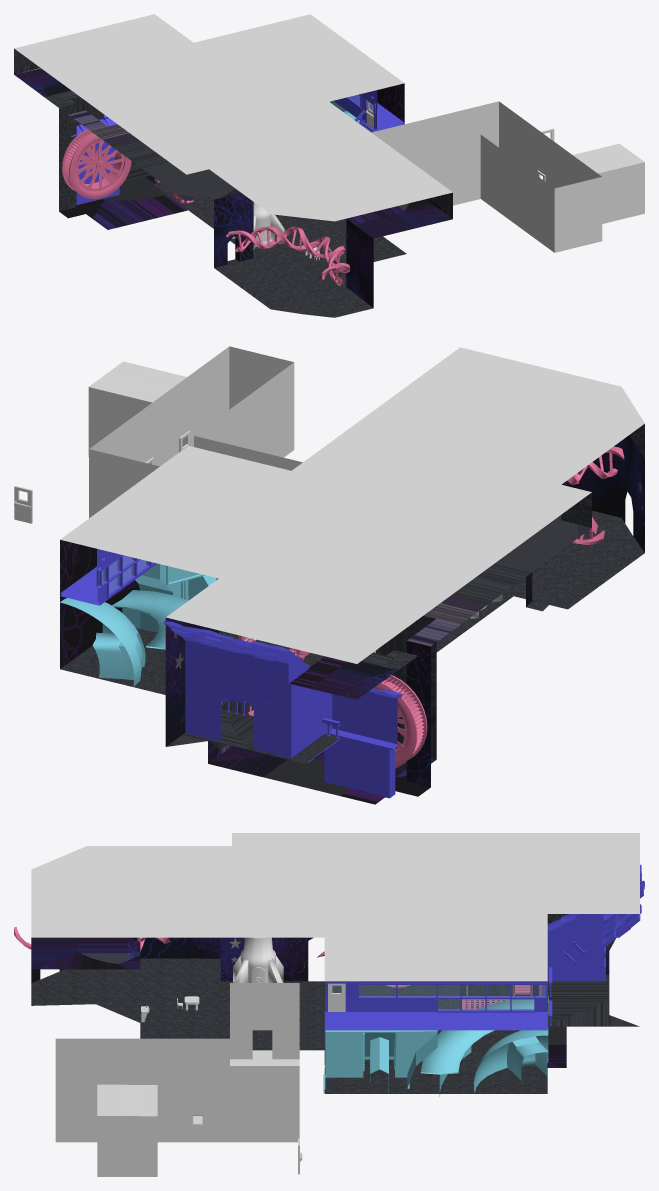
File: ScienceHub.fbx
The picture shows the model from 3 angles, top to bottom: view 1: azimuth 30°, elevation 25°; view 2: azimuth 150°, elevation 25°; view 3: azimuth 270°, elevation 25°; orthographic projection. The views are drawn at different scales.
Parts seen in each view (by area): view 1: ScienceCeiling, Science Area, Science Area.001, Cylinder.002, DNA Strand, ScienceCatwalk, WorkshopOuters, Spaceship; view 2: ScienceCeiling, Science Area, Science Area.001, WorkshopOuters, SpaceZoneEntrance, Cylinder.002, ScienceCatwalk, CyberZoneEntrance, ScienceCatwalkGlassFrame, DNA Strand, ScienceCatwalkGlass; view 3: ScienceCeiling, Science Area, Science Area.001, ScienceCatwalk, WorkshopOuters, CyberZoneEntrance, SpaceZoneEntrance, ScienceCatwalkGlass, ScienceCatwalkGlassFrame, Spaceship.
Boxes of the visible parts, bbox=[...] form: ScienceCeiling: bbox=[14, 14, 452, 221]; Science Area: bbox=[14, 48, 452, 317]; Science Area.001: bbox=[371, 101, 644, 252]; Cylinder.002: bbox=[61, 129, 131, 199]; DNA Strand: bbox=[226, 226, 350, 285]; ScienceCatwalk: bbox=[333, 90, 404, 131]; WorkshopOuters: bbox=[71, 114, 119, 204]; Spaceship: bbox=[232, 202, 284, 249]; ScienceCeiling: bbox=[60, 347, 644, 663]; Science Area: bbox=[60, 424, 644, 804]; Science Area.001: bbox=[88, 346, 302, 518]; WorkshopOuters: bbox=[163, 621, 402, 798]; SpaceZoneEntrance: bbox=[60, 590, 187, 686]; Cylinder.002: bbox=[374, 675, 427, 768]; ScienceCatwalk: bbox=[60, 549, 156, 605]; CyberZoneEntrance: bbox=[135, 563, 218, 600]; ScienceCatwalkGlassFrame: bbox=[96, 555, 156, 598]; DNA Strand: bbox=[567, 446, 624, 544]; ScienceCatwalkGlass: bbox=[98, 555, 148, 593]; ScienceCeiling: bbox=[31, 833, 639, 981]; Science Area: bbox=[31, 914, 639, 1093]; Science Area.001: bbox=[55, 983, 299, 1176]; ScienceCatwalk: bbox=[325, 962, 547, 1030]; WorkshopOuters: bbox=[538, 864, 644, 995]; CyberZoneEntrance: bbox=[323, 1030, 437, 1093]; SpaceZoneEntrance: bbox=[420, 996, 548, 1093]; ScienceCatwalkGlass: bbox=[359, 985, 545, 1009]; ScienceCatwalkGlassFrame: bbox=[357, 983, 547, 1012]; Spaceship: bbox=[233, 937, 283, 982].
Bounding box in the file's own units: 3209 × 998 × 3696.
